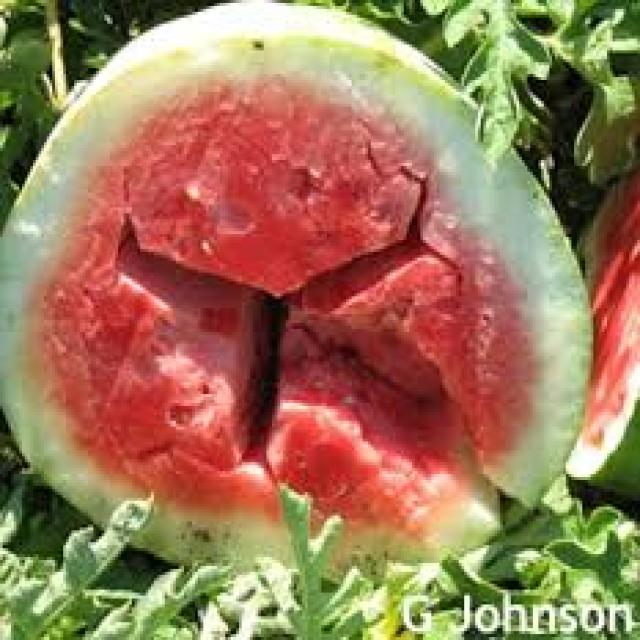watermelon: (0, 0, 593, 580), (572, 157, 640, 513)
